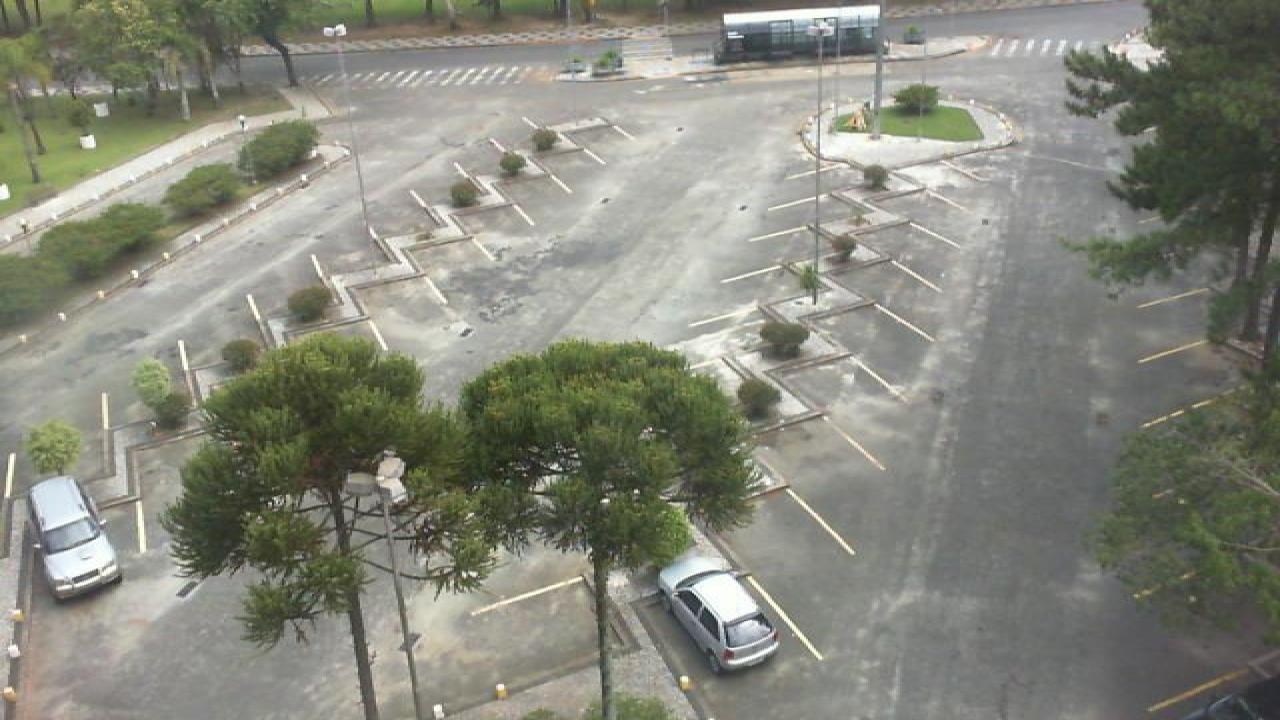Car: (658, 549, 782, 674), (28, 474, 122, 600)
